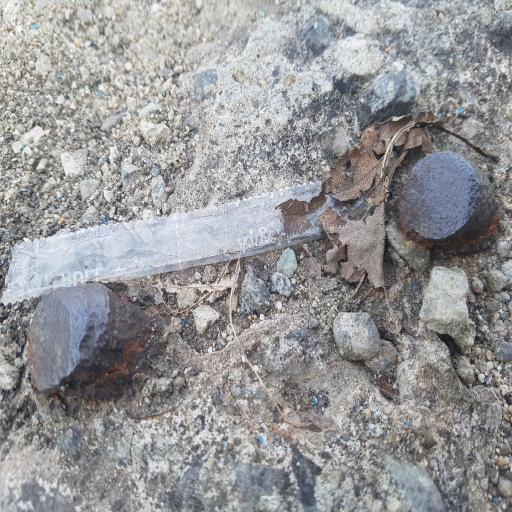exposed_rebar: (28, 283, 150, 391), (399, 151, 498, 252)
